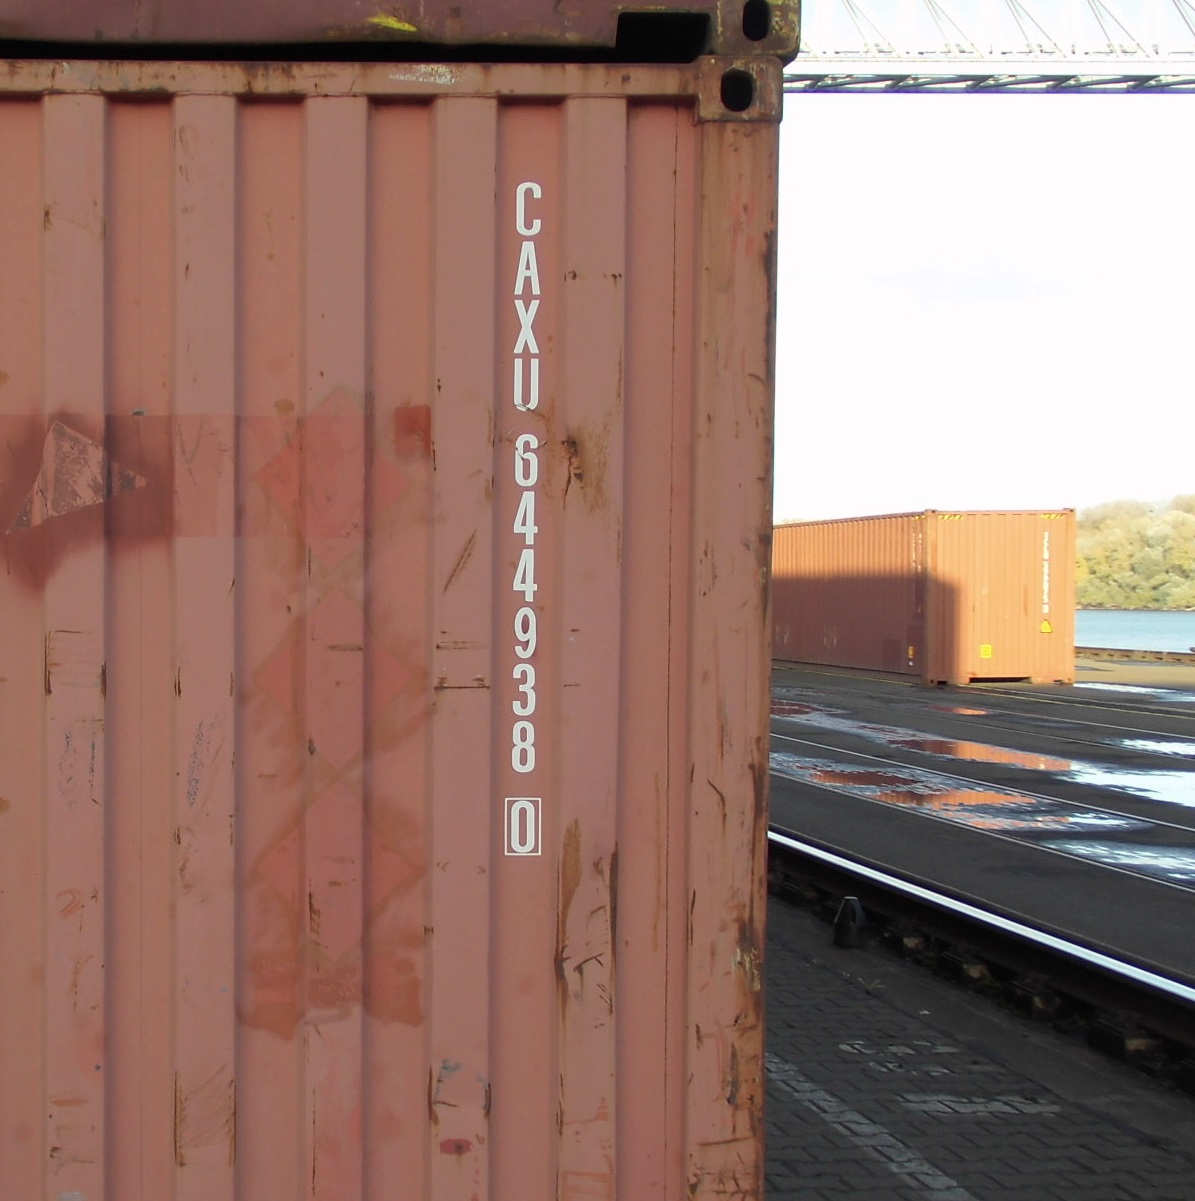container_no_door: (3, 60, 785, 1196), (923, 508, 1083, 688)
